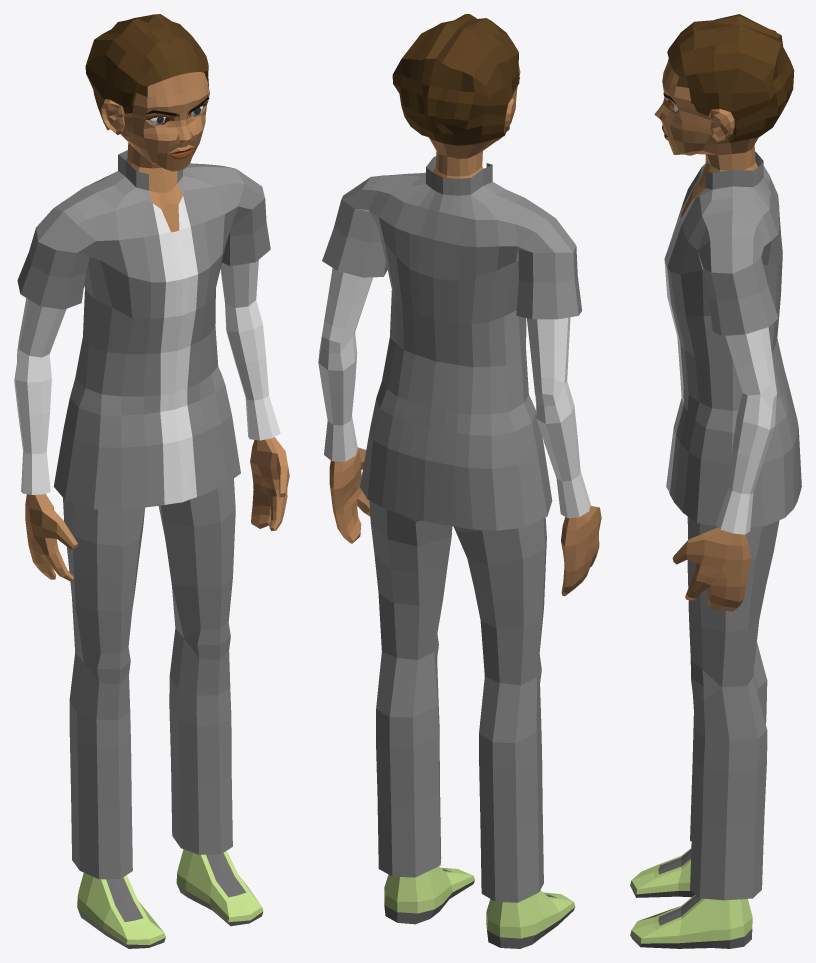
The model's file is StudentMale_Stand.fbx.
3 renders of one model, left to right at view 1: azimuth 30°, elevation 25°; view 2: azimuth 150°, elevation 25°; view 3: azimuth 270°, elevation 25°, orthographic. The views are drawn at different scales.
Visible parts, largest first — view 1: StudentMale_Stand; view 2: StudentMale_Stand; view 3: StudentMale_Stand.
Boxes of the visible parts, x1,y1,x2,y2 form: StudentMale_Stand: (14,14,289,948); StudentMale_Stand: (318,14,601,948); StudentMale_Stand: (630,14,801,948).
Bounding box in the file's own units: 0.2614 × 0.8584 × 0.1494.
